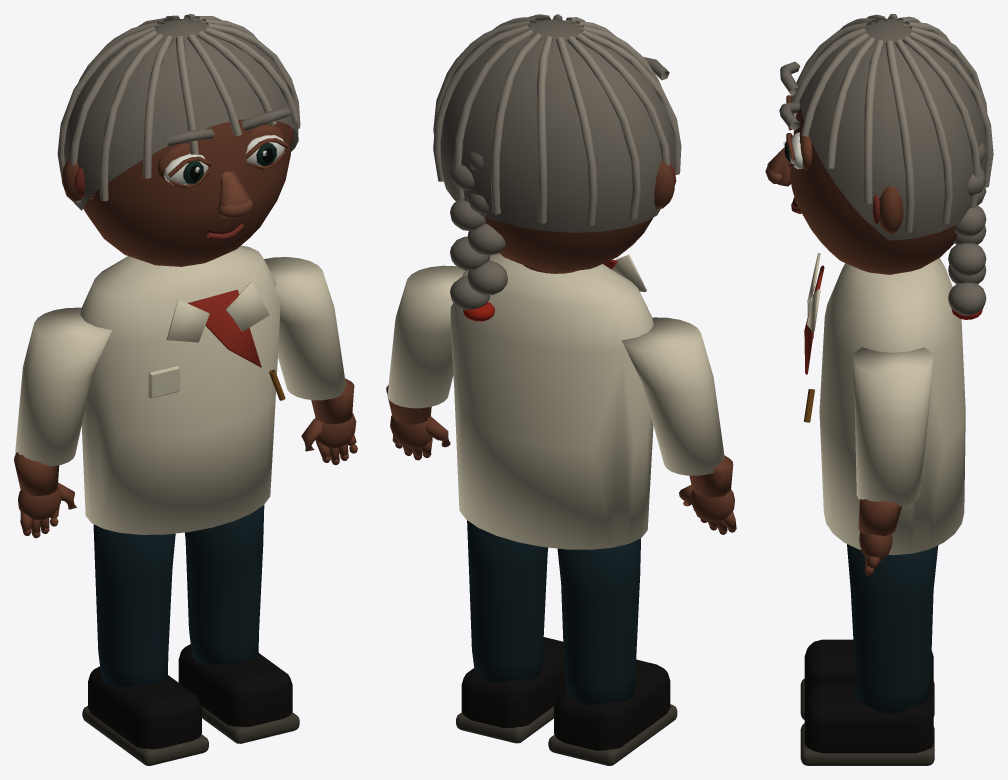
File: receptionist-05.glb
The picture shows the model from 3 angles, left to right: view 1: azimuth 30°, elevation 25°; view 2: azimuth 150°, elevation 25°; view 3: azimuth 270°, elevation 25°; orthographic projection.
Parts seen in each view (by area): view 1: Body, Head, LegL, LegR, ArmL, ArmR; view 2: Body, Head, LegL, LegR, ArmL, ArmR; view 3: Head, Body, LegR, ArmR, LegL.
Part boxes in pixels (bbox=[...]): Body: bbox=[80, 222, 285, 534]; Head: bbox=[57, 14, 300, 266]; LegL: bbox=[82, 524, 208, 765]; LegR: bbox=[178, 505, 299, 743]; ArmL: bbox=[14, 307, 112, 538]; ArmR: bbox=[264, 257, 357, 465]; Body: bbox=[450, 199, 653, 549]; Head: bbox=[433, 14, 681, 272]; LegL: bbox=[548, 538, 677, 765]; LegR: bbox=[456, 520, 566, 743]; ArmL: bbox=[621, 317, 736, 534]; ArmR: bbox=[386, 265, 464, 460]; Head: bbox=[765, 14, 993, 274]; Body: bbox=[791, 197, 986, 555]; LegR: bbox=[800, 544, 938, 765]; ArmR: bbox=[853, 347, 933, 575]; LegL: bbox=[800, 639, 934, 719].
Bounding box in the file's own units: 0.6391 × 1.26 × 0.3723.
